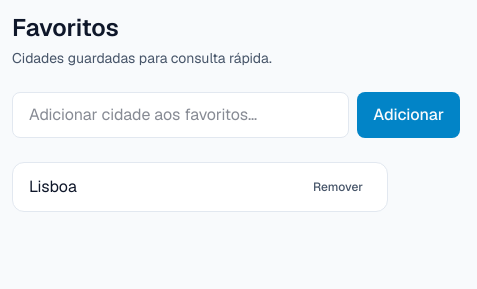
Test: FavoritesView › shows an error message and keeps the card when removing fails
The width and height of the screenshot is (477, 289).
Step 1. Click the button with aria-label "Remover Lisboa" → coordinates (338, 187), box [305,175,371,199]
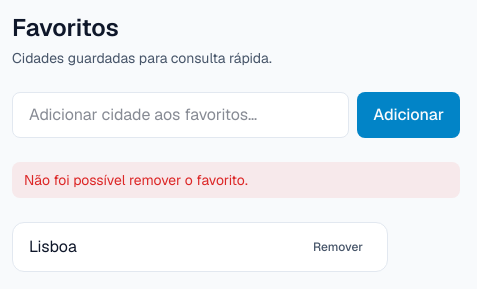
Expected: the link "Lisboa" is shown, [29,235,77,259]
Expected: the message reads "Não foi possível remover o favorito.", [24,171,248,189]
